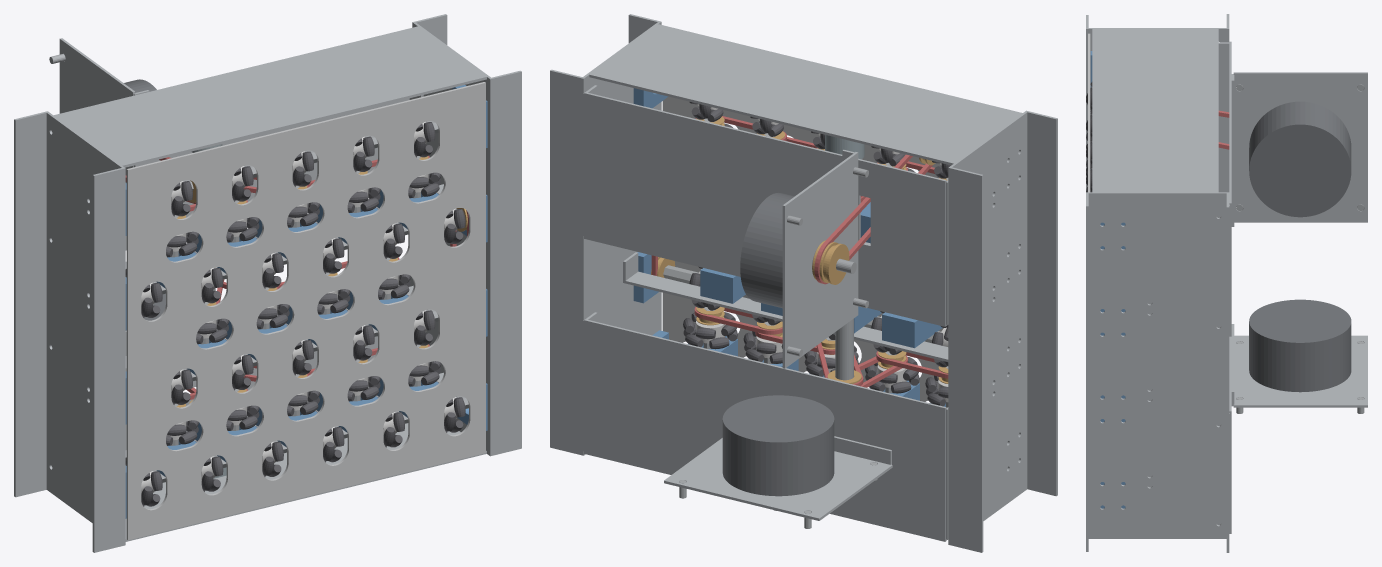
The model's file is conjunto.glb.
The picture shows the model from 3 angles, left to right: view 1: azimuth 30°, elevation 25°; view 2: azimuth 150°, elevation 25°; view 3: azimuth 270°, elevation 25°; orthographic projection. The views are drawn at different scales.
Parts seen in each view (by area): view 1: tapa_superior, canal_A, placa_extremo_B, canal_B, placa_motor_A, placa_extremo_A, bancada_A, rueda_1, rueda_12, rueda_2, rueda_3, rueda_10 (+31 smaller); view 2: canal_A, bancada_A, bancada_B, placa_extremo_B, canal_B, placa_motor_A, motor_B, placa_motor_B, motor_A, tapa_superior, trav_h2, soporte_desvio_h2_1 (+9 smaller); view 3: canal_B, placa_extremo_B, placa_motor_A, motor_A, motor_B, placa_motor_B, bancada_A, canal_A, bancada_B, tapa_superior.
Part boxes in pixels (bbox=[...]): tapa_superior: bbox=[126, 82, 485, 540]; canal_A: bbox=[14, 111, 125, 552]; placa_extremo_B: bbox=[54, 26, 486, 167]; canal_B: bbox=[412, 14, 521, 456]; placa_motor_A: bbox=[59, 38, 149, 182]; placa_extremo_A: bbox=[125, 423, 486, 541]; bancada_A: bbox=[125, 95, 423, 250]; rueda_1: bbox=[125, 457, 162, 506]; rueda_12: bbox=[125, 269, 162, 317]; rueda_2: bbox=[195, 441, 223, 491]; rueda_3: bbox=[255, 426, 283, 476]; rueda_10: bbox=[346, 309, 374, 360]; canal_A: bbox=[948, 110, 1057, 552]; bancada_A: bbox=[583, 85, 948, 326]; bancada_B: bbox=[583, 312, 948, 541]; placa_extremo_B: bbox=[589, 24, 1022, 165]; canal_B: bbox=[550, 14, 661, 455]; placa_motor_A: bbox=[782, 149, 858, 368]; motor_B: bbox=[679, 395, 877, 528]; placa_motor_B: bbox=[664, 436, 892, 520]; motor_A: bbox=[740, 167, 868, 356]; tapa_superior: bbox=[662, 96, 943, 401]; trav_h2: bbox=[623, 252, 948, 361]; soporte_desvio_h2_1: bbox=[882, 312, 942, 348]; canal_B: bbox=[1086, 192, 1229, 552]; placa_extremo_B: bbox=[1092, 29, 1218, 192]; placa_motor_A: bbox=[1231, 72, 1367, 226]; motor_A: bbox=[1236, 84, 1364, 217]; motor_B: bbox=[1236, 299, 1364, 413]; placa_motor_B: bbox=[1231, 324, 1367, 407]; bancada_A: bbox=[1216, 41, 1231, 336]; canal_A: bbox=[1086, 14, 1229, 192]; bancada_B: bbox=[1216, 336, 1231, 533]; tapa_superior: bbox=[1088, 33, 1090, 192].
Bounding box in the file's own units: 527 × 440 × 325.
